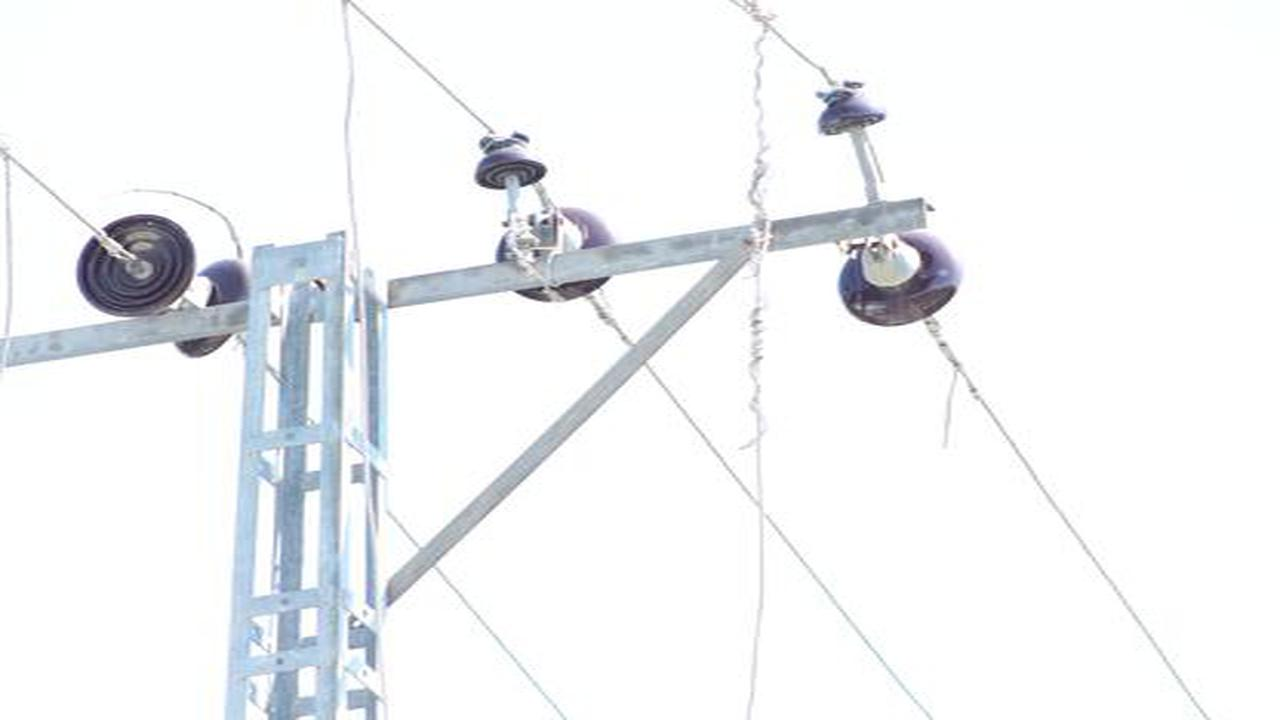insulator_disc: (832, 222, 964, 332), (76, 208, 197, 321)
insulator_pin: (462, 123, 550, 189), (812, 72, 887, 140)
